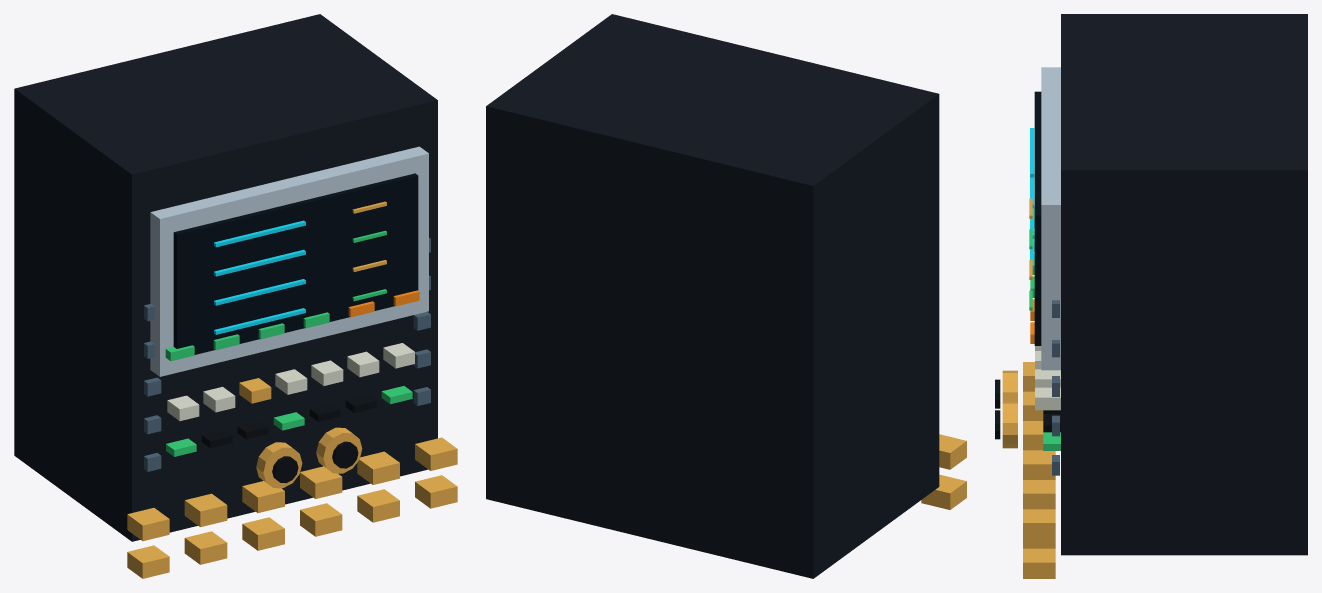
File: 66_L92_RadarCalibrationReference.fbx
3 views of the same model, side by side, from view 1: azimuth 30°, elevation 25°; view 2: azimuth 150°, elevation 25°; view 3: azimuth 270°, elevation 25° (orthographic). The views are drawn at different scales.
Parts seen in each view (by area): view 1: L92_RadarCalibrationReference, L92_RadarCalibrationReference_Part_0009, L92_RadarCalibrationReference_Part_0011, L92_RadarCalibrationReference_Part_0013, L92_RadarCalibrationReference_Part_0010, L92_RadarCalibrationReference_Part_0014; view 2: L92_RadarCalibrationReference; view 3: L92_RadarCalibrationReference, L92_RadarCalibrationReference_Part_0013, L92_RadarCalibrationReference_Part_0011.
Part boxes in pixels (x1,y1,x2,y2): L92_RadarCalibrationReference: (14, 14, 457, 578); L92_RadarCalibrationReference_Part_0009: (165, 312, 329, 361); L92_RadarCalibrationReference_Part_0011: (256, 442, 302, 488); L92_RadarCalibrationReference_Part_0013: (316, 427, 362, 473); L92_RadarCalibrationReference_Part_0010: (348, 290, 419, 317); L92_RadarCalibrationReference_Part_0014: (332, 441, 358, 468); L92_RadarCalibrationReference: (486, 14, 966, 578); L92_RadarCalibrationReference: (1023, 14, 1307, 578); L92_RadarCalibrationReference_Part_0013: (1002, 401, 1017, 448); L92_RadarCalibrationReference_Part_0011: (1002, 370, 1017, 401).
Size of the model in its own units: 105 by 124 by 86.2.
